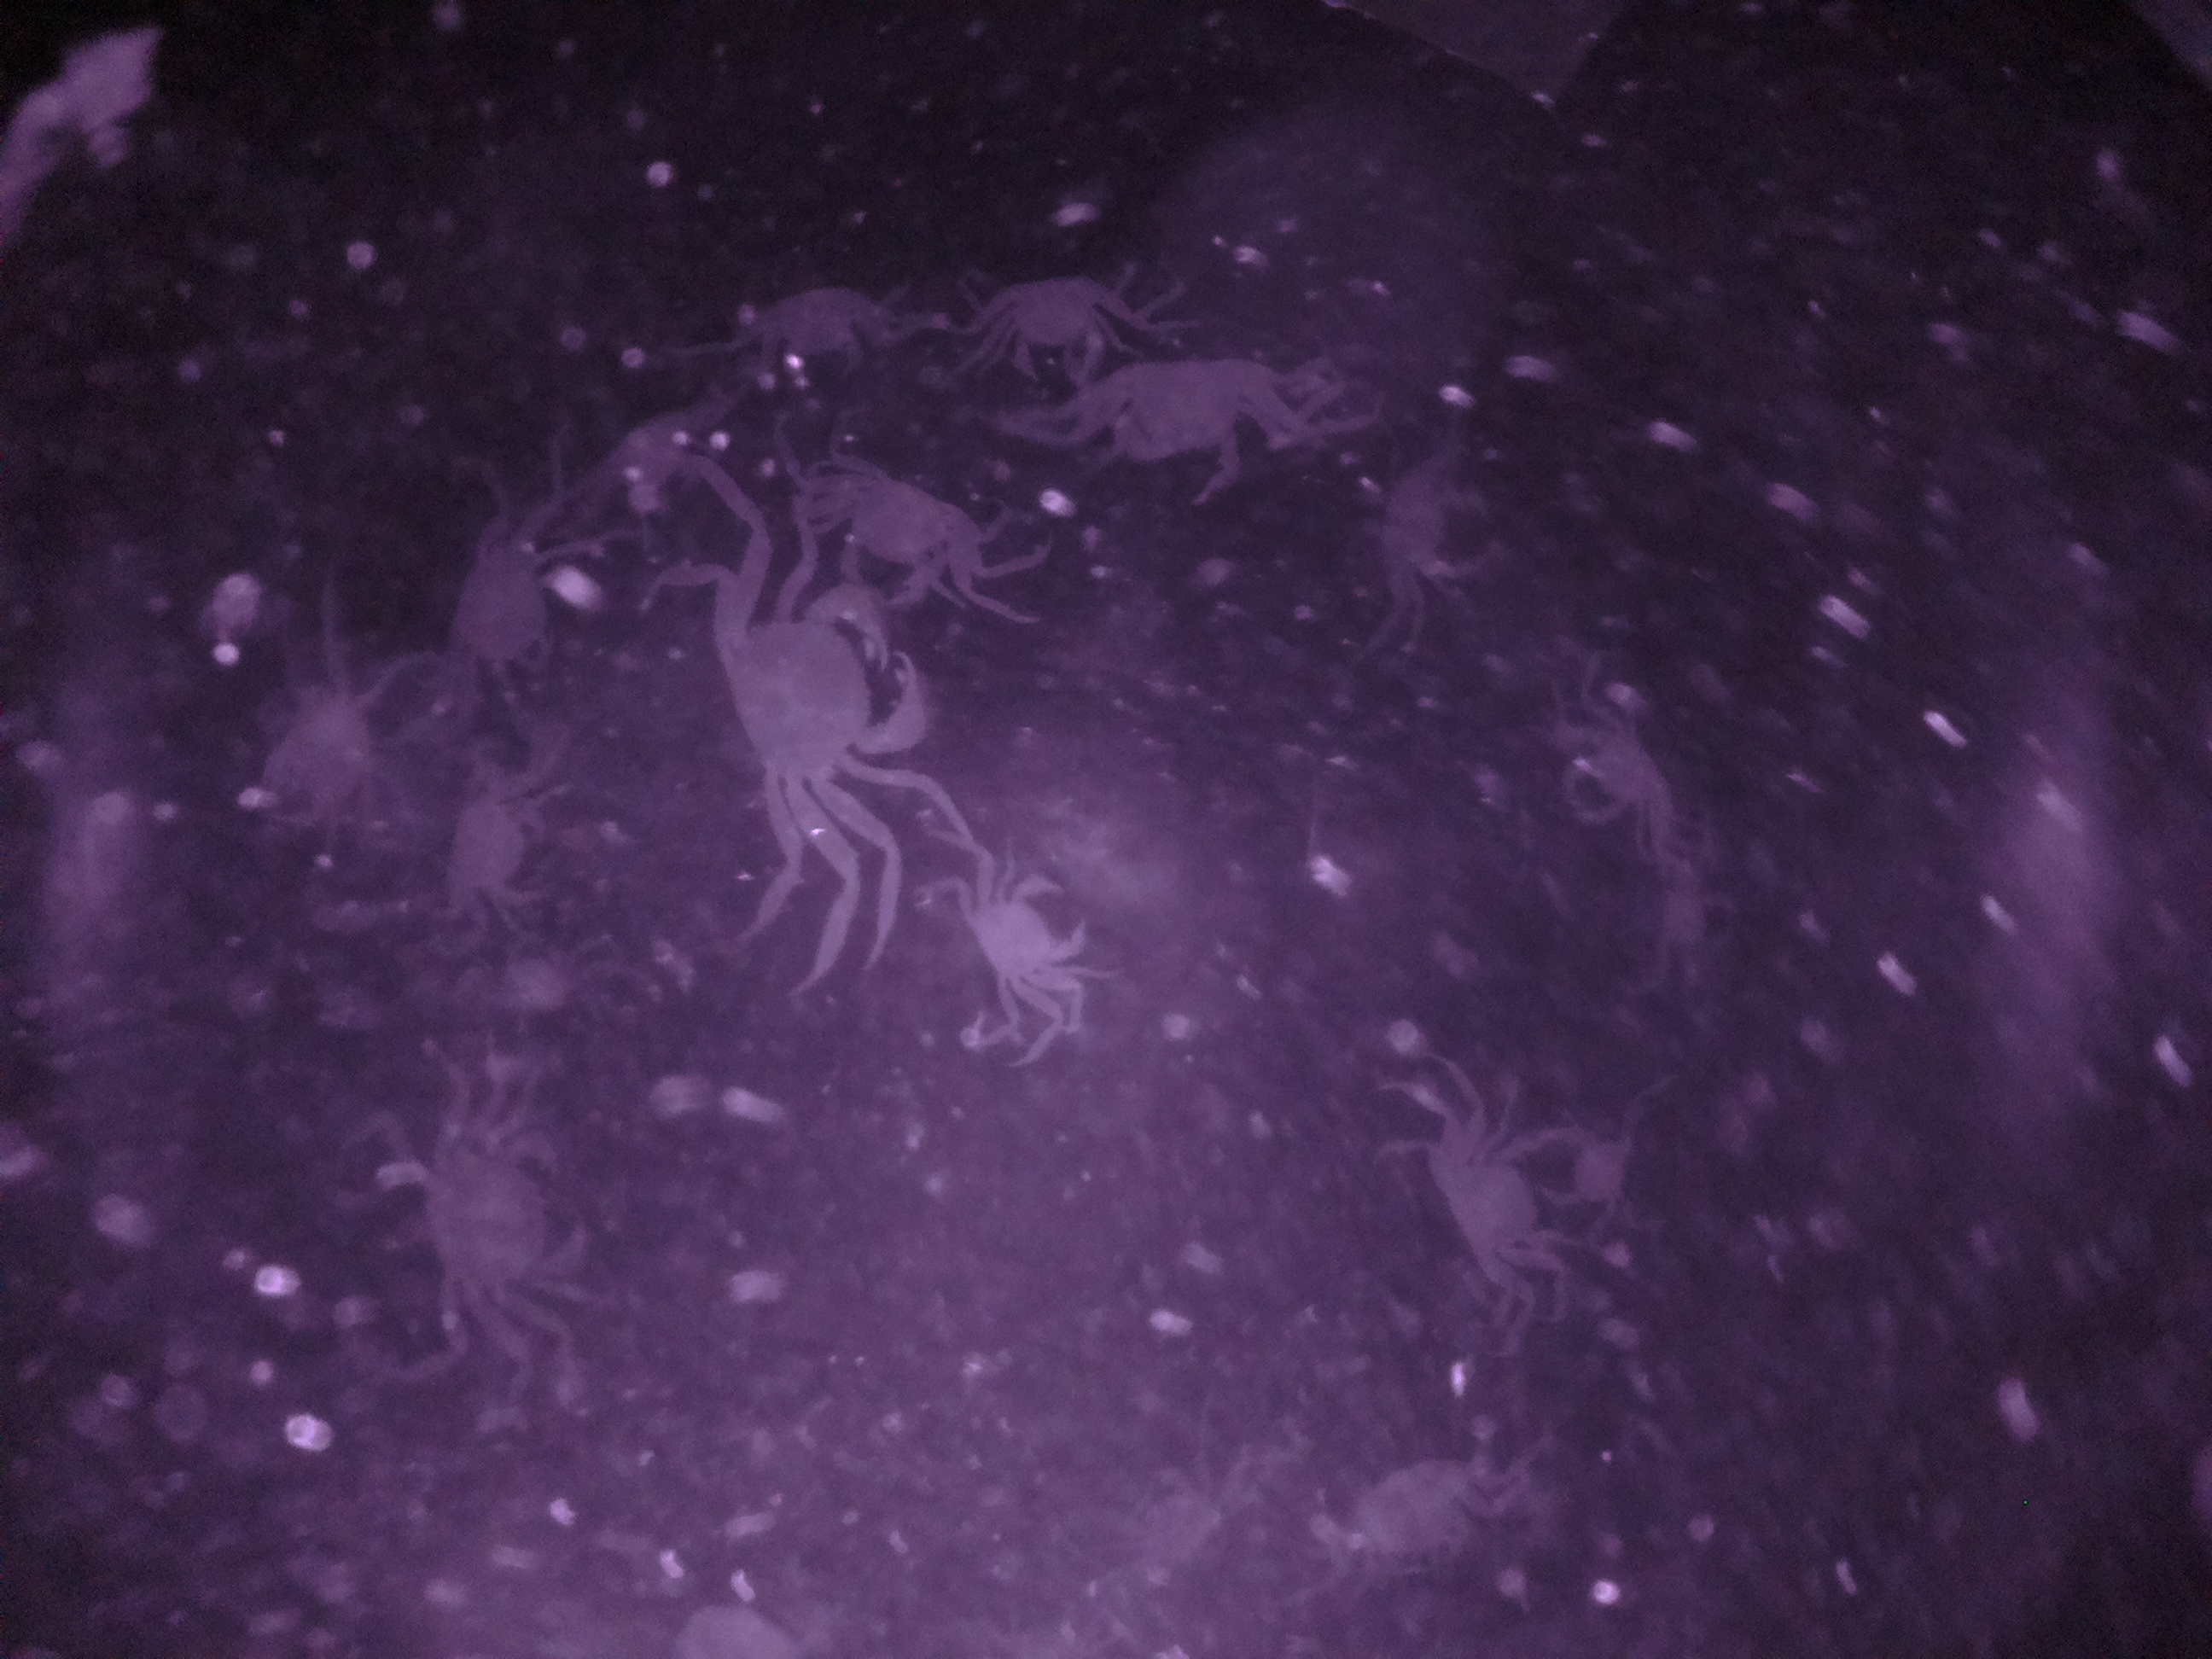Crab: (681, 559, 935, 831), (1057, 331, 1299, 498), (798, 436, 1003, 603), (420, 502, 575, 702), (1411, 1107, 1564, 1303), (946, 852, 1109, 1018)
